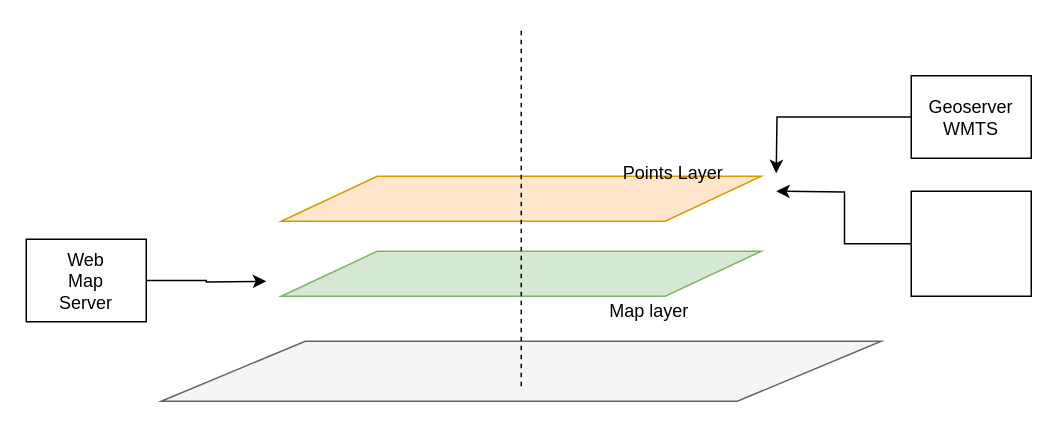
This 1061x428 diagram has some shape labels left out. Each missing label, with the centre of its shape:
"PSTool (communication via SignalR)" belongs at point (970, 243).
"User browser tab" belongs at point (520, 370).
